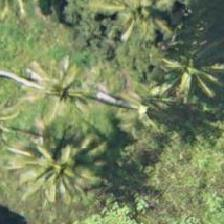coconut_tree: (12, 41, 102, 131), (17, 120, 107, 210), (142, 25, 223, 115), (98, 0, 188, 48)
